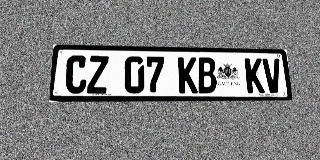0: (124, 56, 144, 93)
7: (145, 56, 165, 93)
B: (197, 57, 217, 93)
C: (65, 55, 88, 94)
K: (244, 58, 265, 93), (178, 57, 198, 93)
V: (262, 58, 283, 93)
Z: (87, 56, 109, 94)
